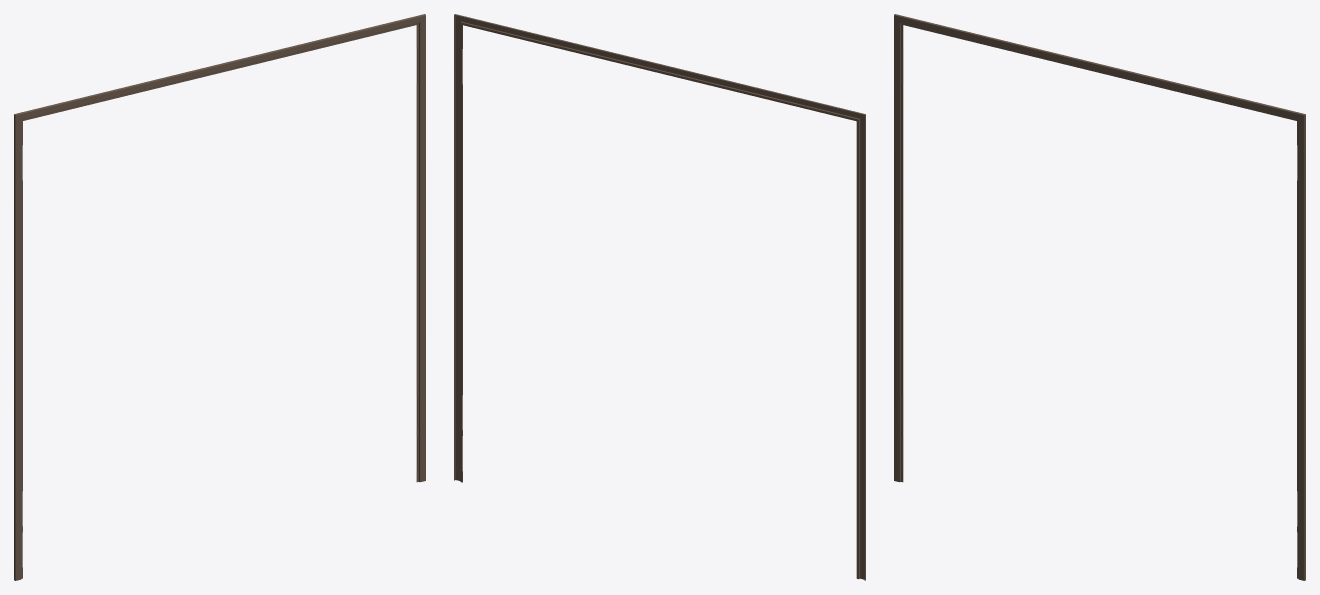
Rendered from Kit_DoorCasing_StationPair.fbx.
3 views of the same model, side by side, from view 1: azimuth 30°, elevation 25°; view 2: azimuth 150°, elevation 25°; view 3: azimuth 330°, elevation 25° (orthographic).
Visible parts, largest first — view 1: Kit_DoorCasing_StationPair_LOD0; view 2: Kit_DoorCasing_StationPair_LOD0; view 3: Kit_DoorCasing_StationPair_LOD0.
Part boxes in pixels (left/top/right/bottom): Kit_DoorCasing_StationPair_LOD0: left=14, top=14, right=425, bottom=580; Kit_DoorCasing_StationPair_LOD0: left=454, top=14, right=865, bottom=580; Kit_DoorCasing_StationPair_LOD0: left=894, top=14, right=1305, bottom=580.
Size of what is drawn, in the model's own units: 2.5 by 2.71 by 0.0136.
